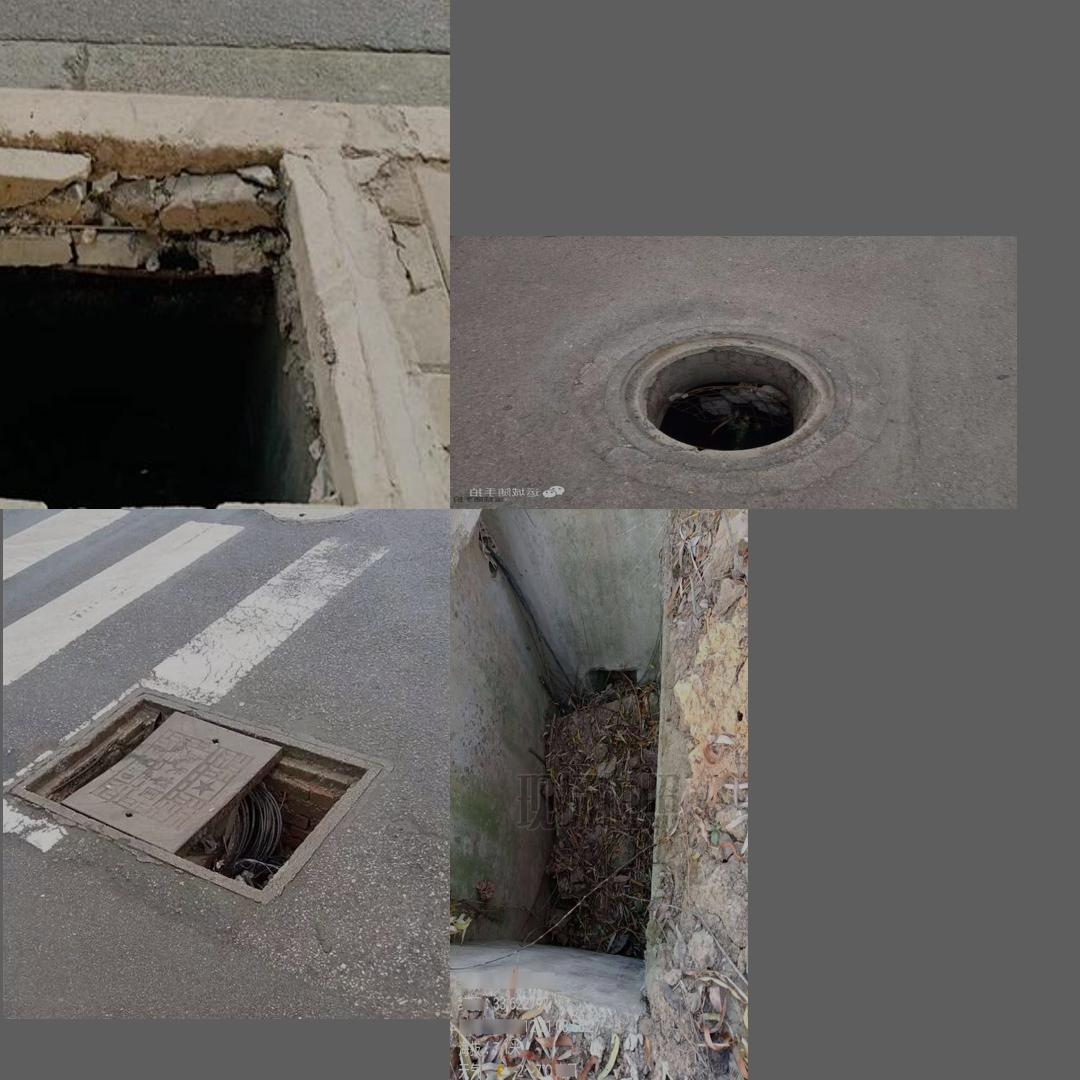lose: (0, 97, 392, 505), (454, 519, 697, 1050), (7, 670, 386, 915), (597, 326, 869, 474)
